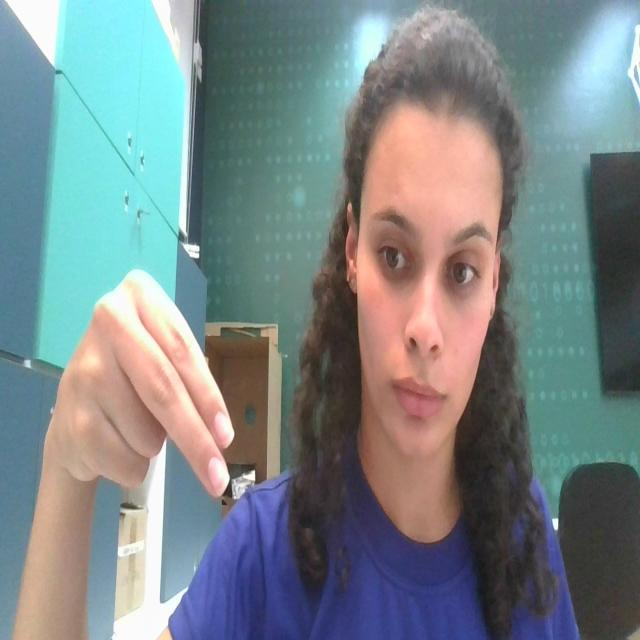N: (49, 249, 242, 524)
